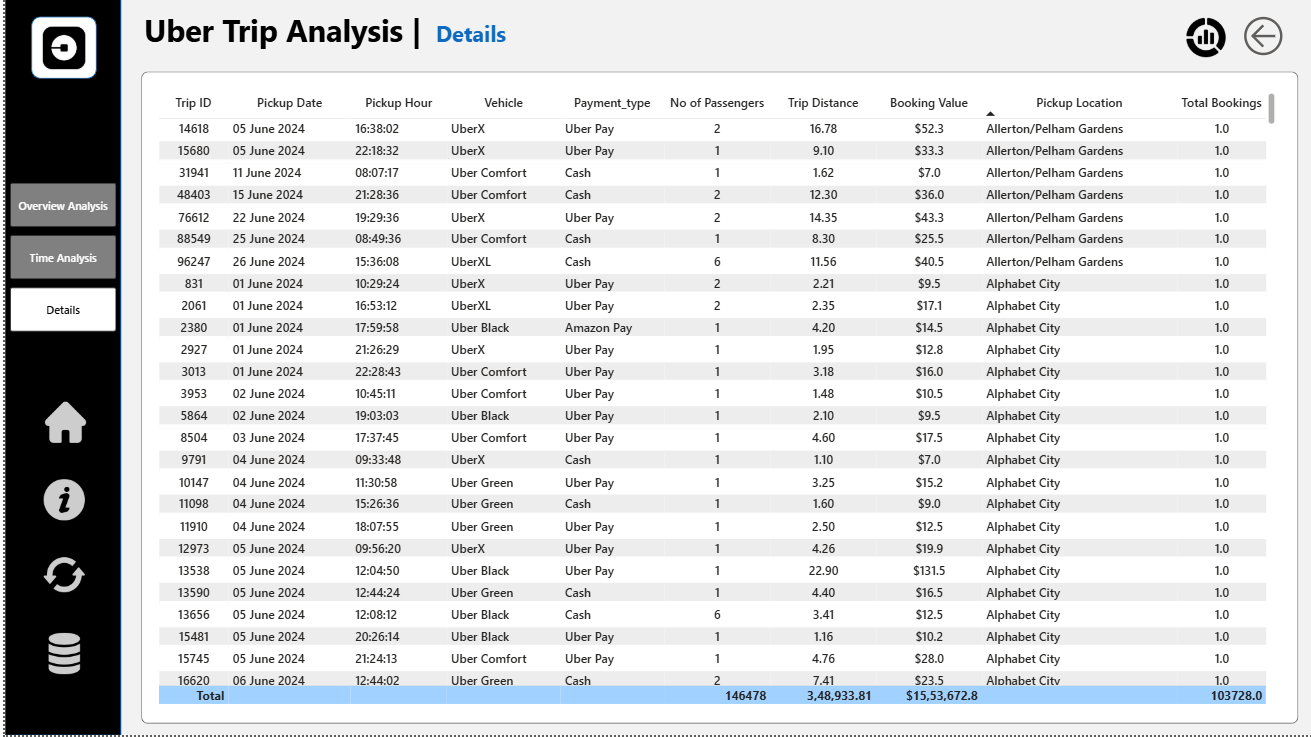

The dashboard page shown, as its layout file describes it:
{"tool":"powerbi","page":{"name":"Details","canvas":[1600,900],"ordinal":2},"visuals":[{"type":"shape","box":[0,0,142,900.7],"z":0},{"type":"textbox","box":[165,7,943.2,68.8],"z":1000},{"type":"shape","box":[166,89.1,1414.8,797.5],"z":2000},{"type":"tableEx","fields":{"Values":["Trip Details.Trip ID","Trip Details.Pickup Date","Trip Details.Pickup Hour (HH MM SS)","Trip Details.Vehicle","Trip Details.Payment_type","Sum(Trip Details.passenger_count)","Trip Details.Total Trip Distance Measure","Trip Details.Total Booking Value","Location Table.Location","Trip Details.Total Bookings"]},"box":[182.2,109.3,1376.3,757],"z":3000},{"type":"actionButton","box":[1508,16,68,60],"z":4000},{"type":"image","box":[1440,18,58,58],"z":5000},{"type":"group","id":"g1","title":"Group 1","box":[32,22,80,76],"z":6000},{"type":"pageNavigator","box":[6,224,130,184],"z":7000},{"type":"image","box":[34,488,80,60],"z":8000},{"type":"image","box":[32,582,80,60],"z":9000},{"type":"image","box":[32,674,80,60],"z":10000},{"type":"image","box":[32,770,80,60],"z":11000},{"type":"textbox","box":[100,100,1500,766],"z":12000},{"type":"shape","box":[32,22,80,76],"z":33000,"group":"g1"},{"type":"image","box":[38,30,68,62],"z":34000,"group":"g1"}]}

Visuals, with their boxes on the page's 1600x900 design canvas (x1, y1, x2, y2). These are canvas units, not pixel positions in the 1311x737 screenshot, which may show the page scaled, cropped or inside an application window:
shape: [0,0,142,901]
textbox: [165,7,1108,76]
shape: [166,89,1581,887]
tableEx - Trip Details.Trip ID x Trip Details.Pickup Date: [182,109,1558,866]
actionButton: [1508,16,1576,76]
image: [1440,18,1498,76]
"Group 1" group: [32,22,112,98]
pageNavigator: [6,224,136,408]
image: [34,488,114,548]
image: [32,582,112,642]
image: [32,674,112,734]
image: [32,770,112,830]
textbox: [100,100,1600,866]
shape: [32,22,112,98]
image: [38,30,106,92]
